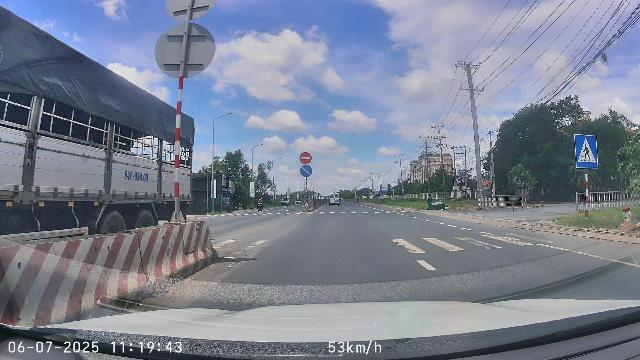102-cam-di-nguoc-chieu: (299, 151, 312, 164)
302a-huong-phai-di-vong-chuong-ngai-vat-1: (300, 165, 313, 177)
423a-duong-nguoi-di-bo-sang-ngang-1: (574, 134, 598, 169)
